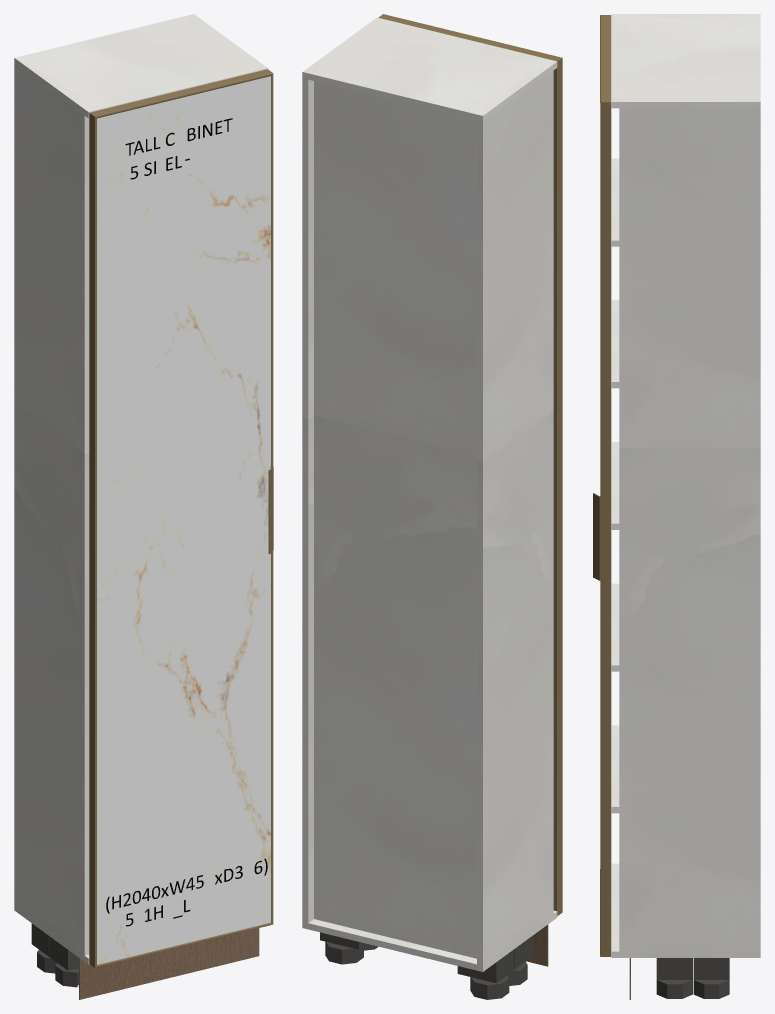
The model's file is TCL-SH-TTS-ST-5SX-LHS-XXX-450-2040-336-15.glb.
3 views of the same model, side by side, from view 1: azimuth 30°, elevation 25°; view 2: azimuth 150°, elevation 25°; view 3: azimuth 270°, elevation 25° (orthographic).
Visible parts, largest first — view 1: Object_node_15, TP_node_0, TP, Extrusion_node_1, Object_node_17, Extrusion_node, Extrusion, 2D text_node_0, 2D text; view 2: TP_node_7, TP_node_0, TP, TP_node_1, Extrusion_node_1, TP_node, Extrusion, Plate, Foot, Foot_node, Object_node_17; view 3: TP_node_1, TP, Extrusion_node, TP_node, Extrusion, Plate_node, Plate_node_1, TP_node_2, TP_node_3, TP_node_5, TP_node_6, TP_node_4 (+3 smaller).
Part boxes in pixels (x1=…): Object_node_15: x1=97, y1=76, x2=270, y2=964; TP_node_0: x1=14, y1=64, x2=89, y2=955; TP: x1=14, y1=14, x2=268, y2=118; Extrusion_node_1: x1=89, y1=113, x2=96, y2=967; Object_node_17: x1=79, y1=928, x2=259, y2=999; Extrusion_node: x1=271, y1=74, x2=273, y2=923; Extrusion: x1=89, y1=69, x2=273, y2=118; 2D text_node_0: x1=106, y1=858, x2=267, y2=913; 2D text: x1=125, y1=118, x2=232, y2=179; TP_node_7: x1=314, y1=81, x2=476, y2=958; TP_node_0: x1=477, y1=71, x2=553, y2=965; TP: x1=302, y1=17, x2=557, y2=122; TP_node_1: x1=302, y1=78, x2=313, y2=922; Extrusion_node_1: x1=553, y1=58, x2=562, y2=915; TP_node: x1=302, y1=910, x2=557, y2=971; Extrusion: x1=378, y1=14, x2=561, y2=61; Plate: x1=457, y1=949, x2=514, y2=983; Foot: x1=470, y1=975, x2=509, y2=999; Foot_node: x1=325, y1=941, x2=363, y2=964; Object_node_17: x1=526, y1=924, x2=548, y2=966; TP_node_1: x1=619, y1=108, x2=760, y2=951; TP: x1=611, y1=14, x2=760, y2=108; Extrusion_node: x1=600, y1=102, x2=611, y2=956; TP_node: x1=611, y1=863, x2=760, y2=957; Extrusion: x1=600, y1=15, x2=611, y2=102; Plate_node: x1=693, y1=958, x2=729, y2=979; Plate_node_1: x1=656, y1=958, x2=692, y2=979; TP_node_2: x1=611, y1=725, x2=619, y2=813; TP_node_3: x1=611, y1=583, x2=619, y2=671; TP_node_5: x1=611, y1=300, x2=619, y2=388; TP_node_6: x1=611, y1=158, x2=619, y2=246; TP_node_4: x1=611, y1=442, x2=619, y2=529.
Size of what is drawn, in the model's own units: 0.45 by 2.14 by 0.366.
7 materials, 3 textured.
